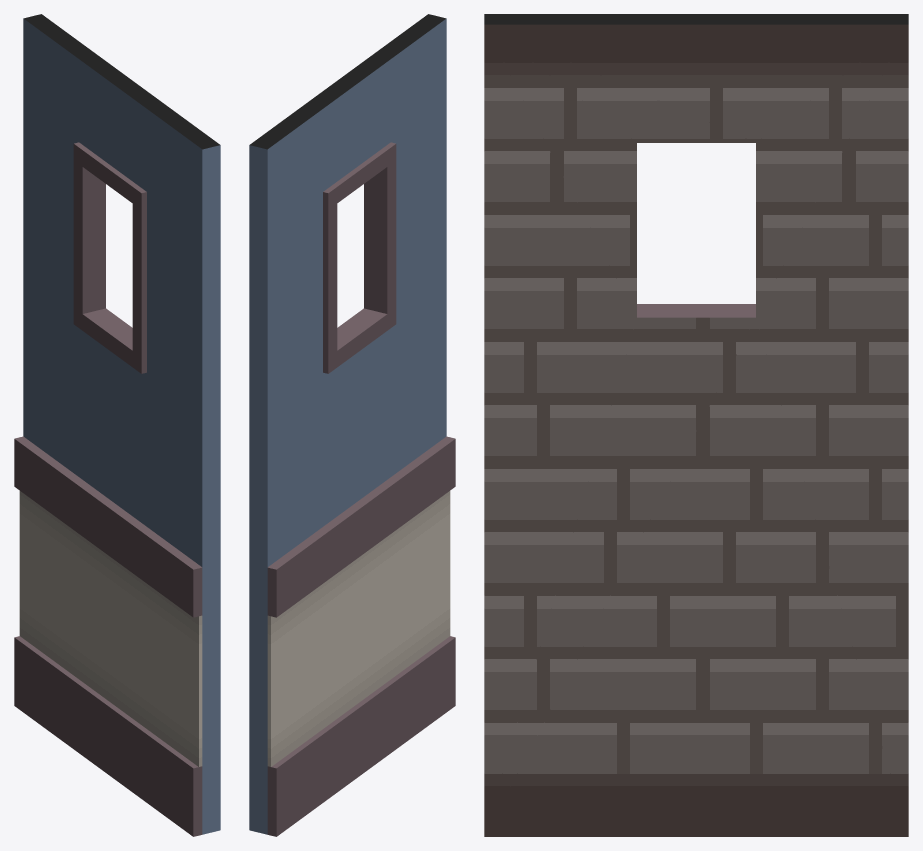
File: mesh_wall_window_small.glb
The picture shows the model from 3 angles, left to right: view 1: azimuth 30°, elevation 25°; view 2: azimuth 150°, elevation 25°; view 3: azimuth 270°, elevation 25°; orthographic projection. The views are drawn at different scales.
Parts seen in each view (by area): view 1: mesh_wall_window_small_mat_wall_inside_1_0; view 2: mesh_wall_window_small_mat_wall_inside_1_0; view 3: mesh_wall_window_small_mat_wall_side_b_0, mesh_wall_window_small_mat_wall_inside_1_0.
Boxes of the visible parts, <box> form: mesh_wall_window_small_mat_wall_inside_1_0: <box>14,14,220,836</box>; mesh_wall_window_small_mat_wall_inside_1_0: <box>249,14,455,836</box>; mesh_wall_window_small_mat_wall_side_b_0: <box>484,24,908,836</box>; mesh_wall_window_small_mat_wall_inside_1_0: <box>484,14,908,317</box>.
Bounding box in the file's own units: 0.1441 × 3.46 × 1.64.
Materials: 2 (2 with a texture image).
